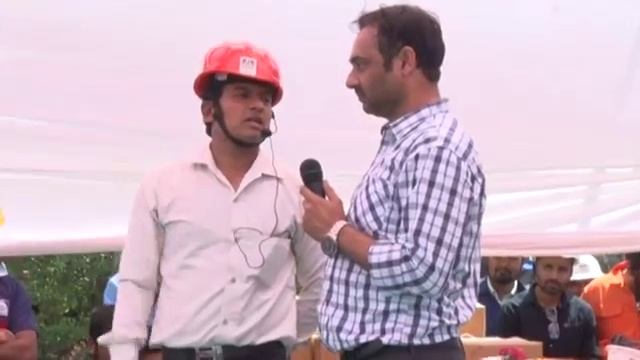helmet: (192, 37, 287, 102), (568, 254, 605, 284)
helmet_off: (344, 0, 443, 114), (534, 254, 576, 304), (485, 252, 523, 288), (622, 251, 640, 290)
helmet_on: (193, 35, 287, 153), (566, 255, 605, 297)
person: (97, 36, 334, 360), (301, 2, 485, 356), (497, 252, 597, 350), (579, 251, 639, 351), (0, 208, 39, 359), (474, 252, 527, 337)
